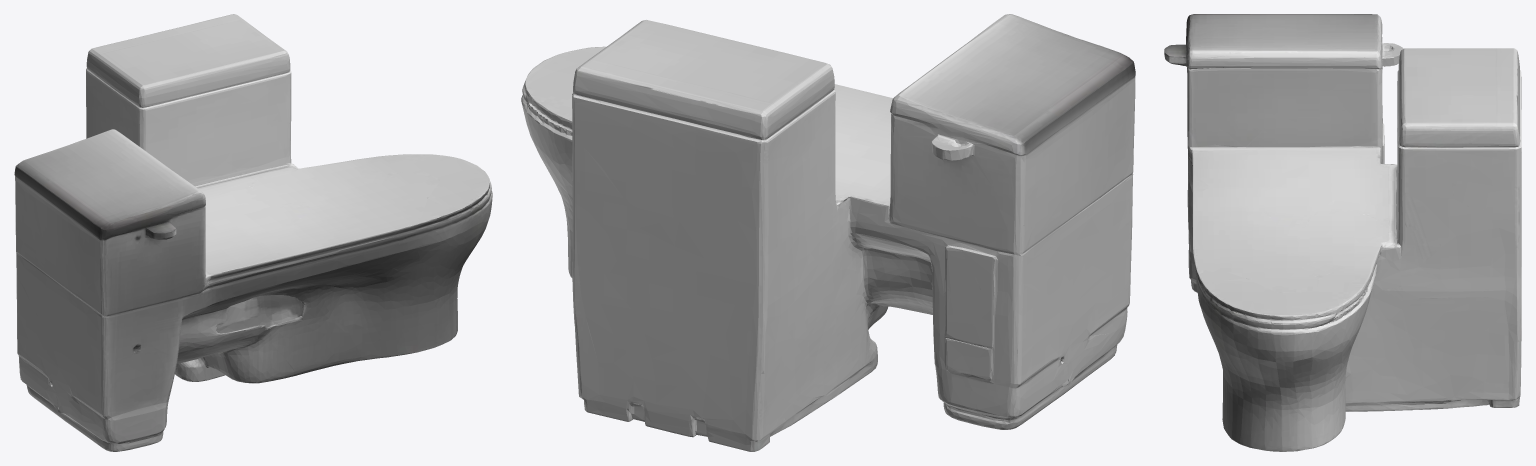
File: 60021de5-c749-4a53-bd09-fb9cee478e36.glb
3 views of the same model, side by side, from view 1: azimuth 30°, elevation 25°; view 2: azimuth 150°, elevation 25°; view 3: azimuth 270°, elevation 25° (orthographic). The views are drawn at different scales.
Parts seen in each view (by area): view 1: world; view 2: world; view 3: world.
Boxes of the visible parts, <box> form: world: <box>14,14,492,451</box>; world: <box>521,14,1135,451</box>; world: <box>1164,14,1521,451</box>.
Bounding box in the file's own units: 0.9944 × 0.5919 × 0.6682.
Materials: 1 (1 with a texture image).
